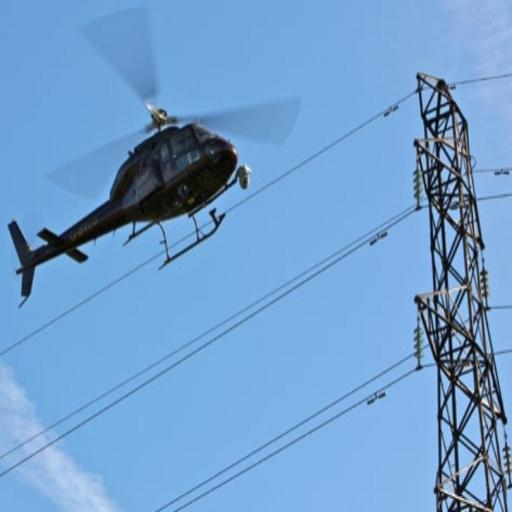helicopter: (8, 13, 295, 299)
